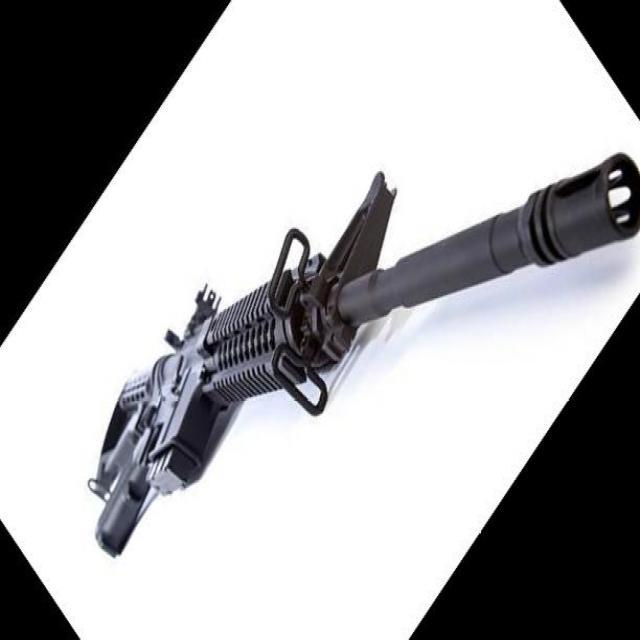weapon: (86, 152, 640, 560)
